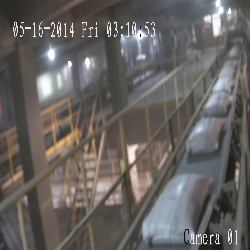cementbag: (141, 173, 212, 245), (185, 117, 225, 156), (202, 92, 232, 116), (212, 77, 235, 92), (218, 66, 235, 77)
